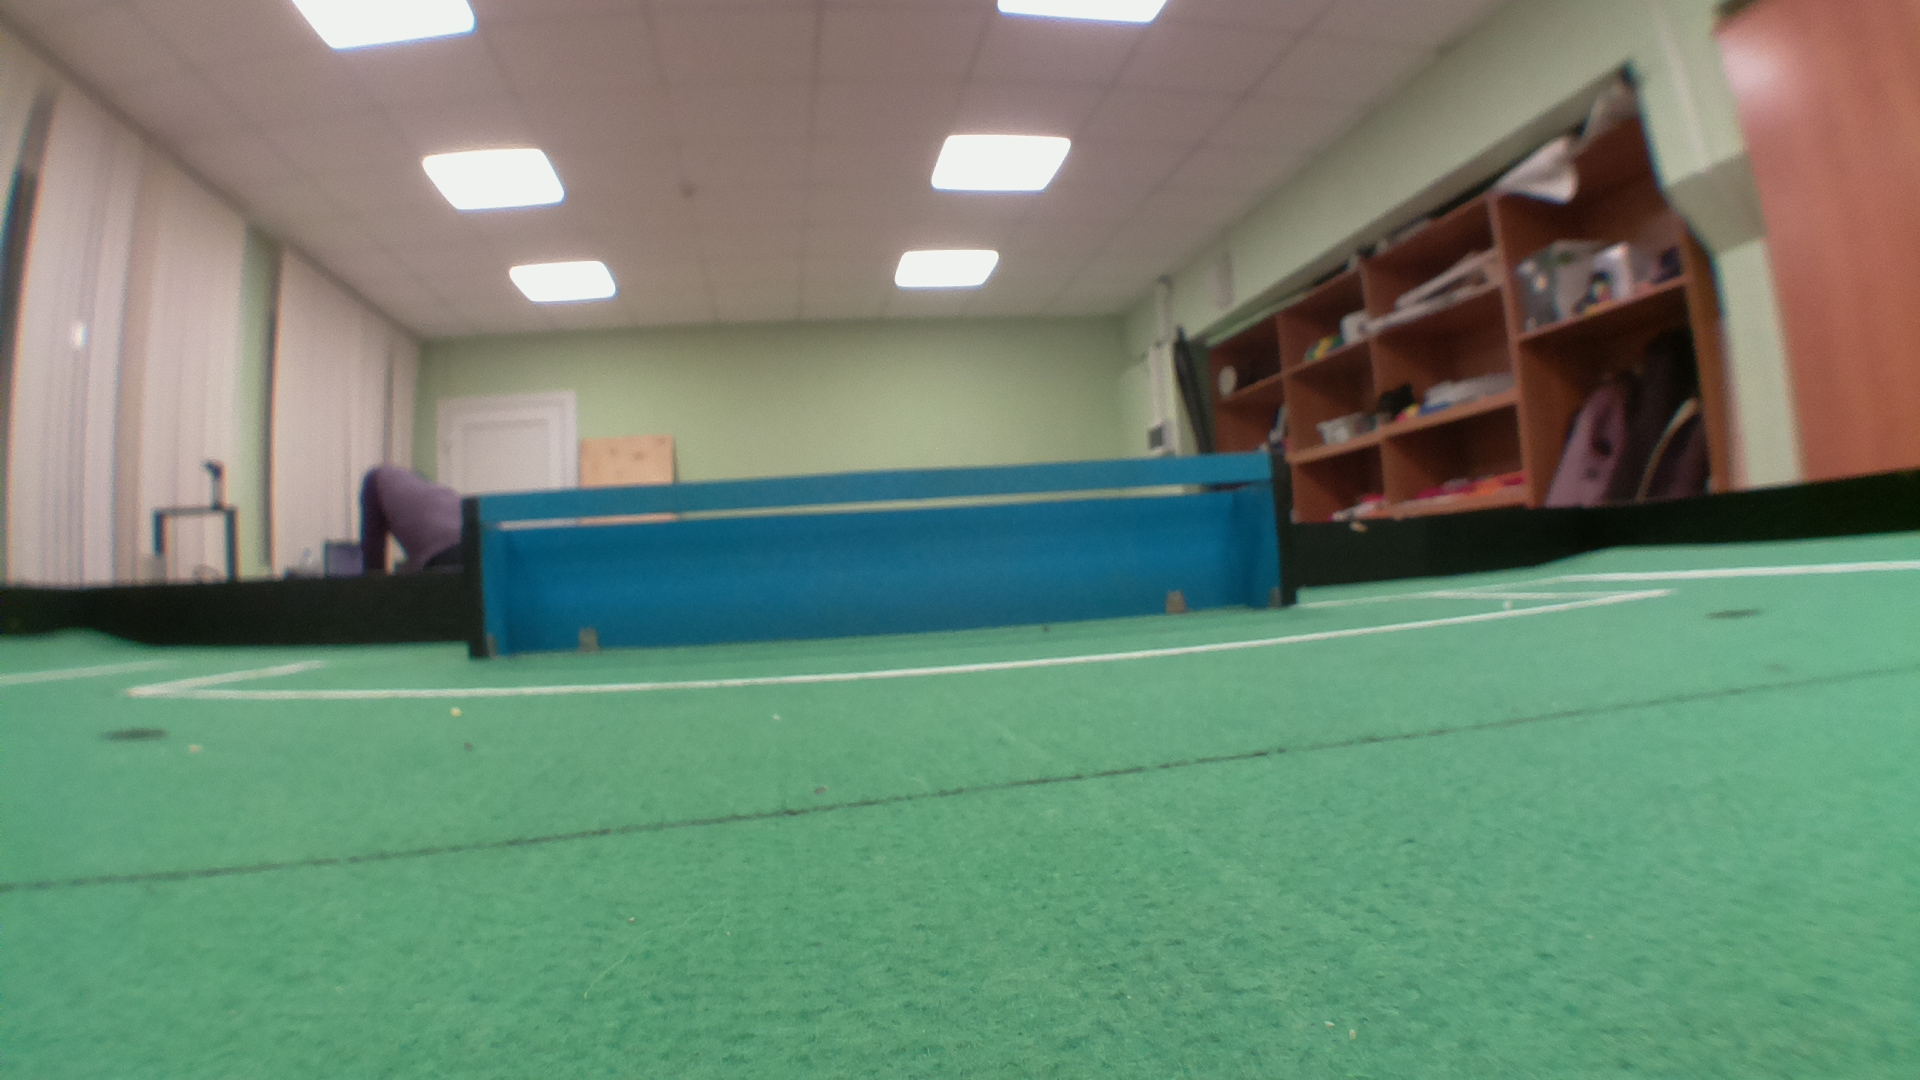BlueGoal: (481, 458, 1271, 659)
